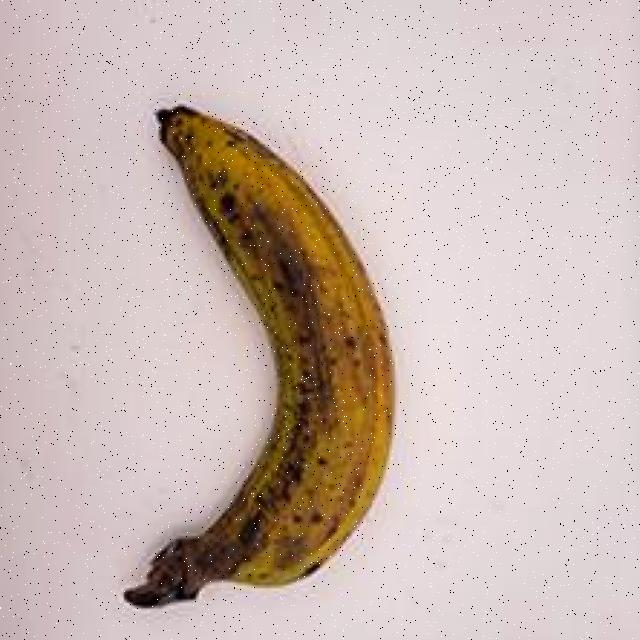Overripe: (85, 80, 407, 604)
